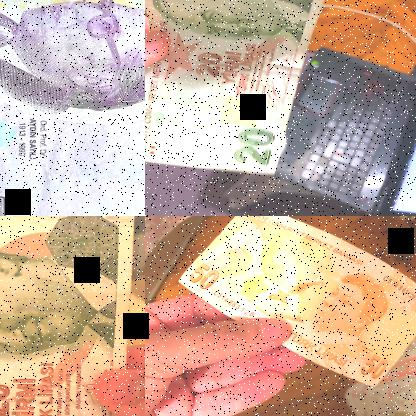5 TL: (0, 0, 144, 215)
